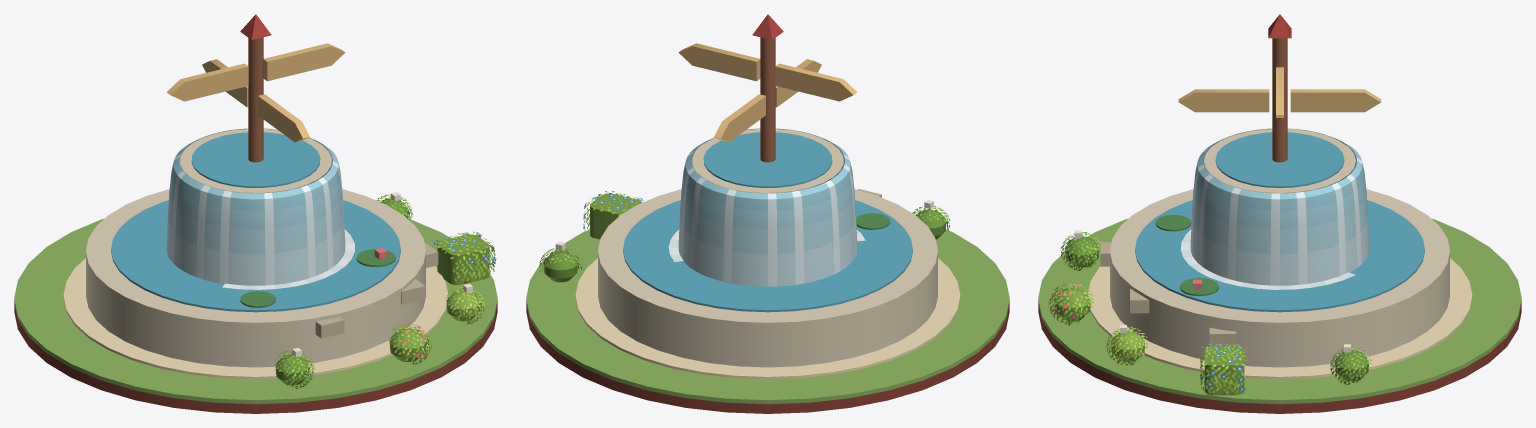
The model's file is fountain.glb.
3 views of the same model, side by side, from view 1: azimuth 30°, elevation 25°; view 2: azimuth 150°, elevation 25°; view 3: azimuth 270°, elevation 25° (orthographic).
Parts seen in each view (by area): view 1: body, falls, foam; view 2: body, falls; view 3: body, falls, foam.
Boxes of the visible parts, x1,y1,x2,y2 form: body: [14, 14, 497, 413]; falls: [166, 128, 345, 285]; foam: [222, 229, 354, 289]; body: [526, 14, 1009, 413]; falls: [678, 128, 857, 286]; body: [1038, 14, 1521, 413]; falls: [1190, 128, 1369, 285]; foam: [1180, 229, 1355, 289].
Bounding box in the file's own units: 5.4 × 3.67 × 5.4.
